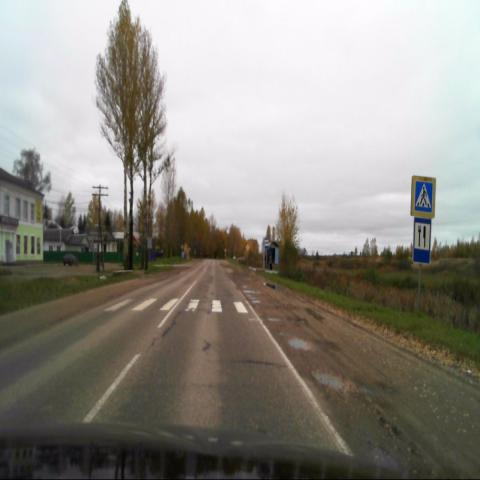5_19_1: (410, 175, 436, 218)
7_7: (413, 219, 431, 263)
